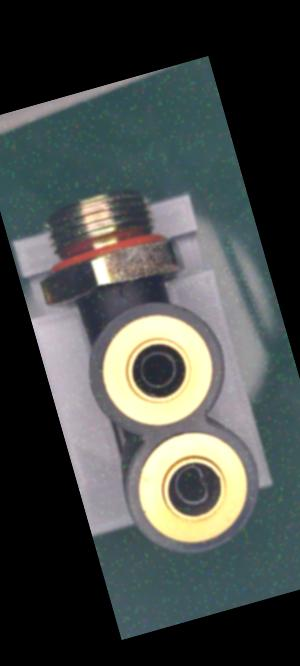craze: (112, 280, 133, 304)
off-centered: (154, 452, 227, 522)
